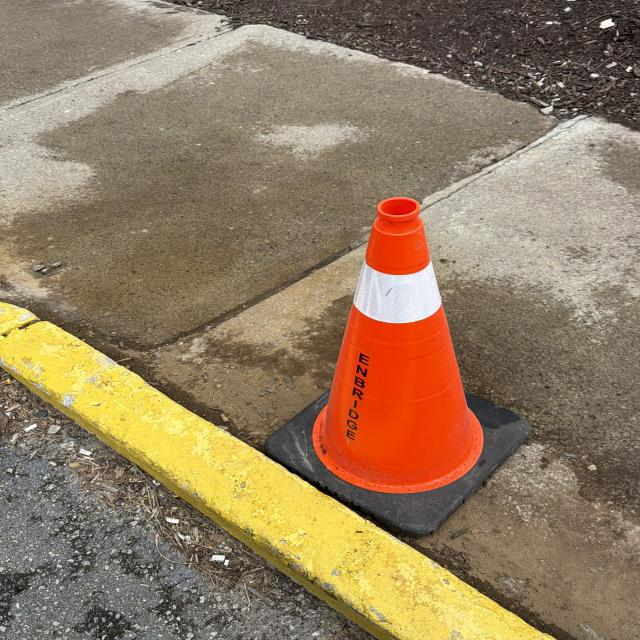Traffic Cone: (264, 195, 530, 535)
